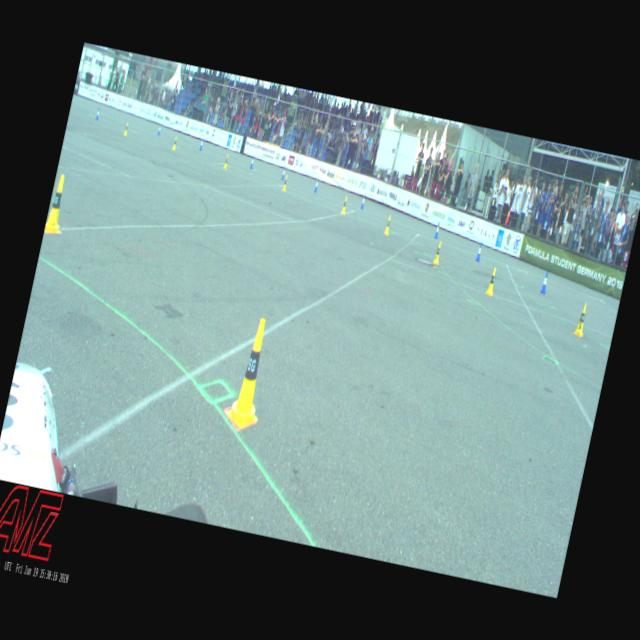blue_cone: (540, 270, 550, 294), (474, 242, 482, 260), (434, 222, 441, 238), (360, 194, 366, 209), (280, 167, 286, 180), (249, 155, 254, 168), (95, 108, 100, 120), (314, 178, 318, 192), (157, 124, 161, 135), (199, 138, 203, 149)
yellow_cone: (228, 316, 274, 424), (44, 174, 70, 232), (574, 302, 590, 336), (485, 266, 498, 296), (432, 240, 442, 264), (384, 214, 392, 234), (340, 196, 348, 213), (223, 153, 229, 170), (282, 174, 288, 190), (172, 136, 178, 150), (123, 122, 129, 136)
